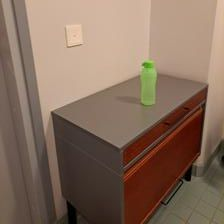bottle: (137, 57, 158, 107)
